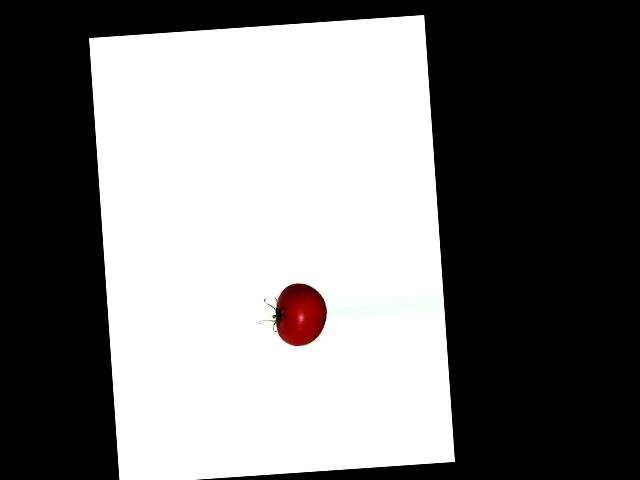tomato: (273, 282, 328, 347)
